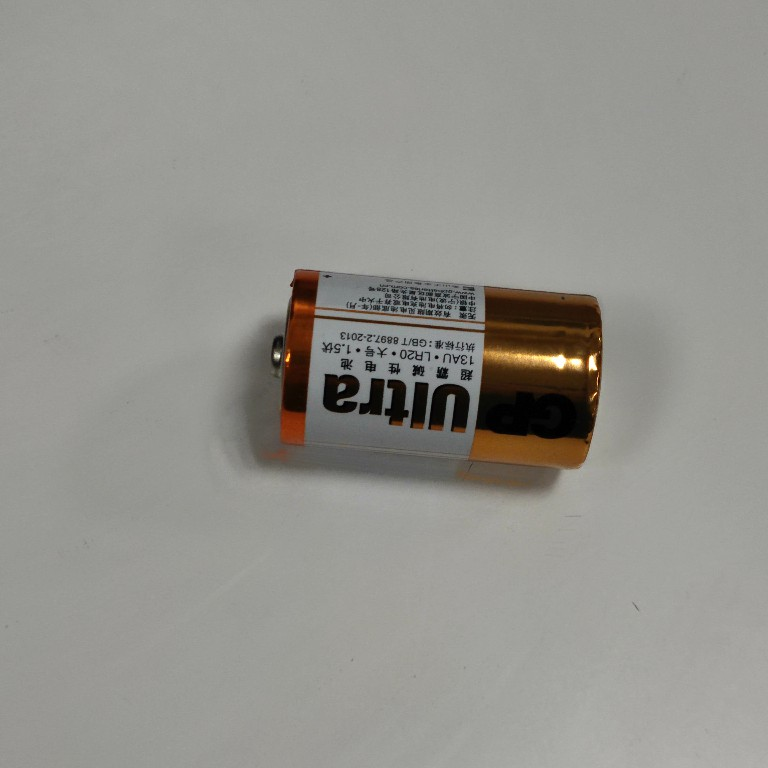charge: (264, 263, 607, 474)
